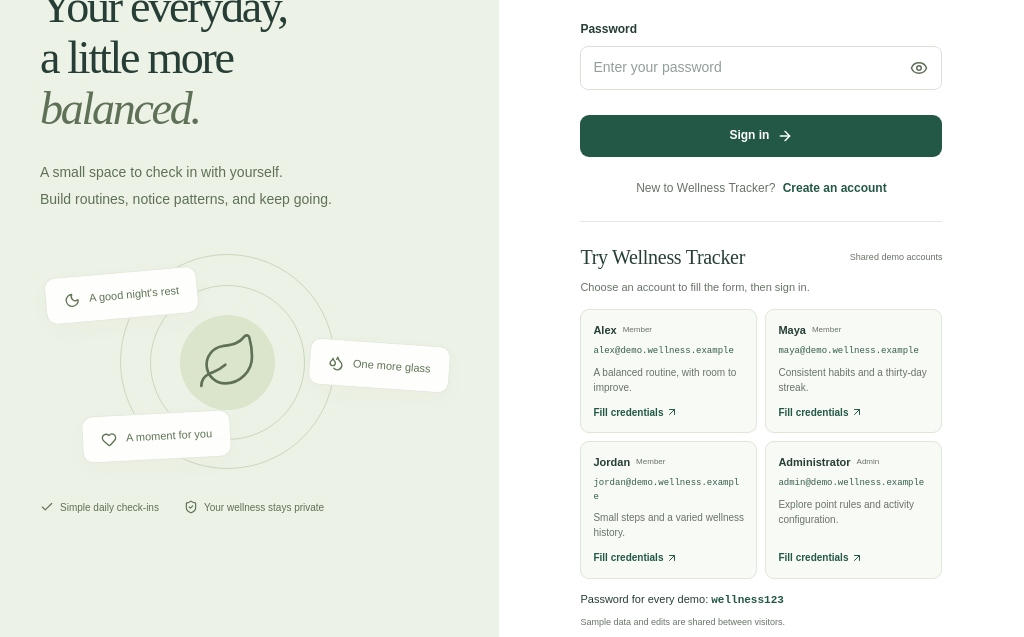
Test: shows plaintext credentials and fills both inputs without signing in
(page scrolled)
Expected: the text "wellness123" is shown, [711,594,784,606]
Expected: the text "alex@demo.wellness.example" is shown, [593,345,734,358]
Click the button with aria-label "Fill Maya Chen credentials" at (854, 371), box [765,309,942,433]
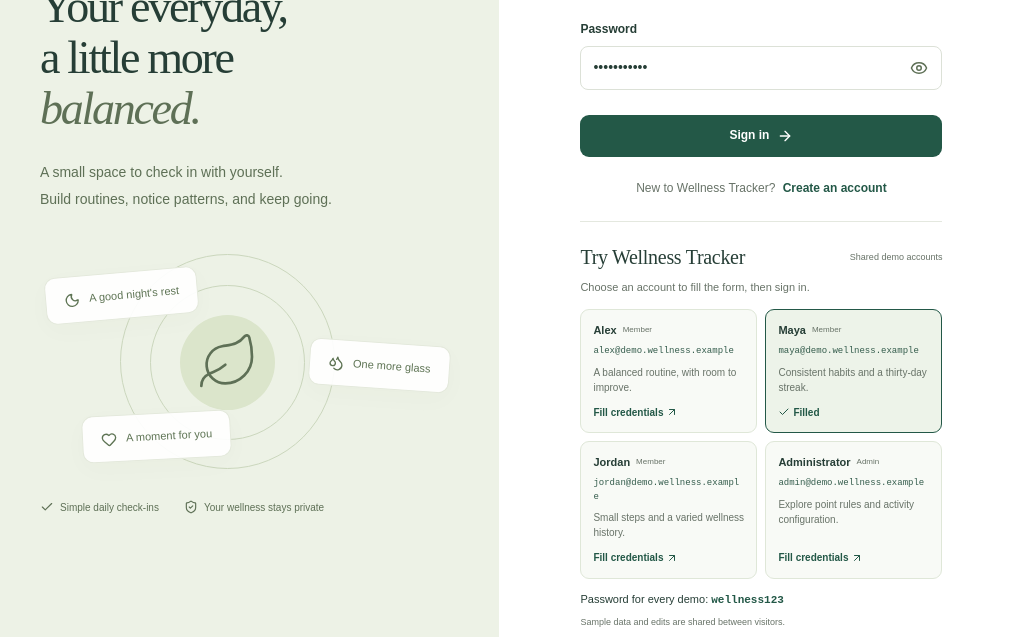
Result: the password field labelled "Password" holds "wellness123"
Clear the password field labelled "Password" at (761, 68), box [580,46,942,90]
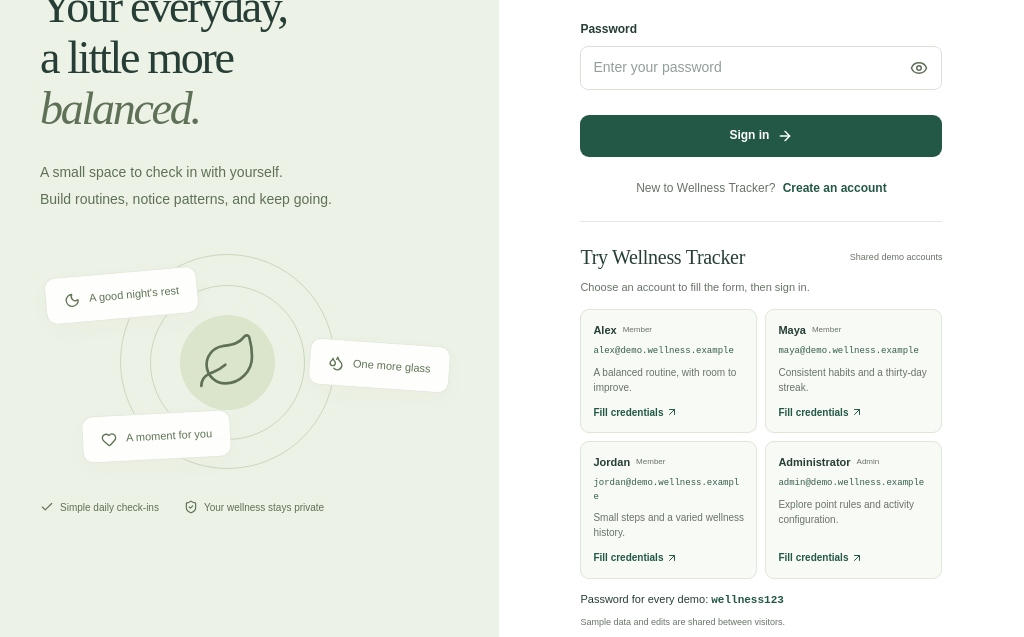
Result: the button with aria-label "Fill Maya Chen credentials" is not pressed at [765,309,942,433]
Click the button with aria-label "Fill Alex Morgan credentials" at (669, 371), box [580,309,757,433]
(page scrolled)
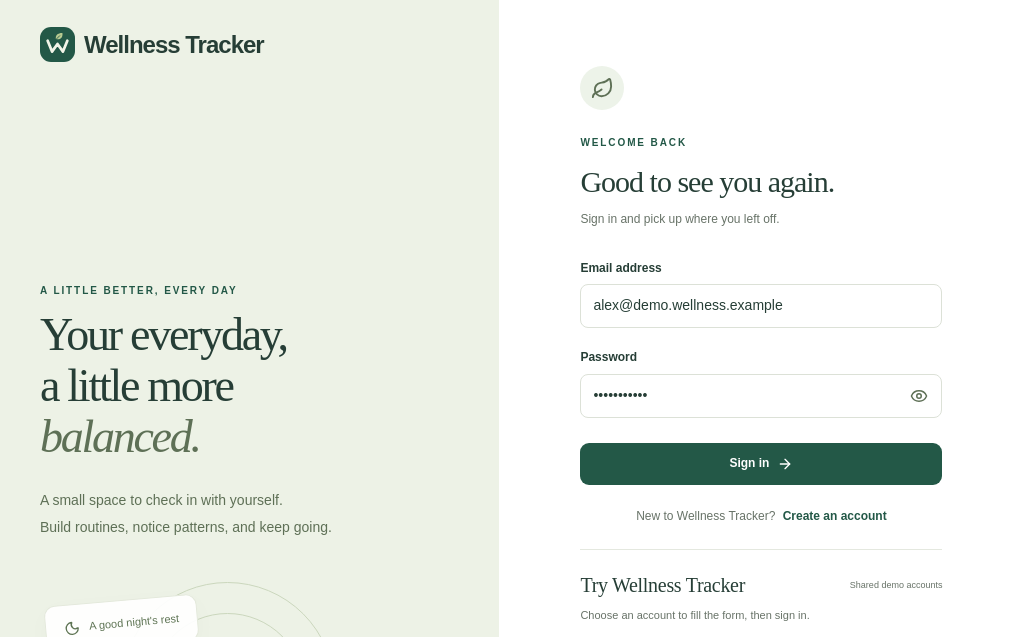
Result: the field labelled "Email address" holds "alex@demo.wellness.example" at [580,284,942,328]
